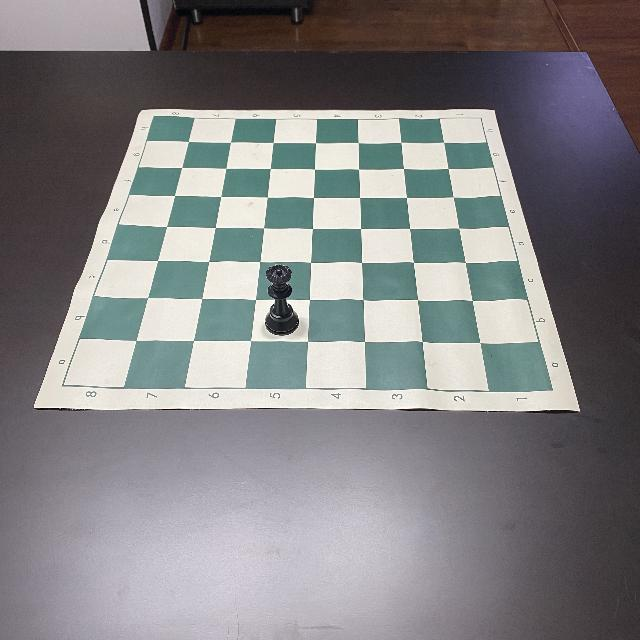black-queen: (263, 263, 299, 335)
board: (33, 108, 580, 414)
